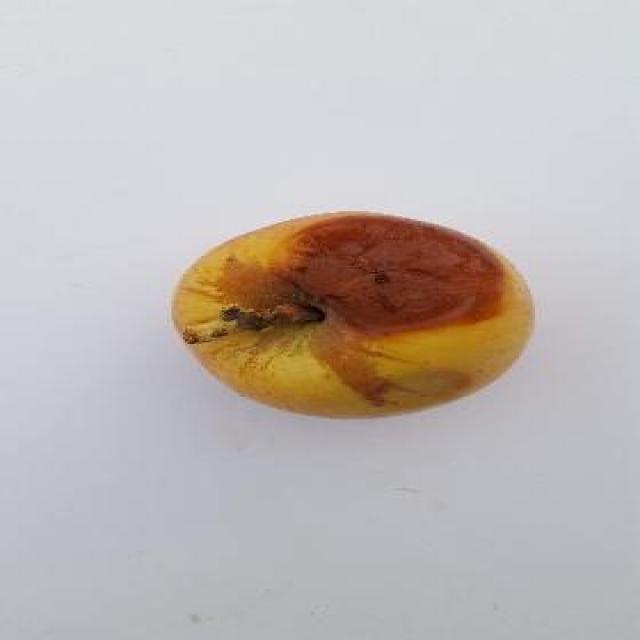Banana: (177, 215, 537, 422)
